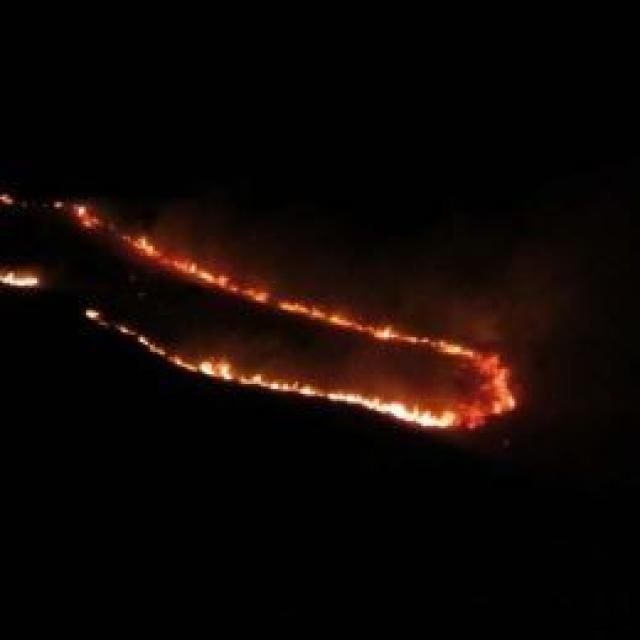Fire: (0, 178, 530, 444)
